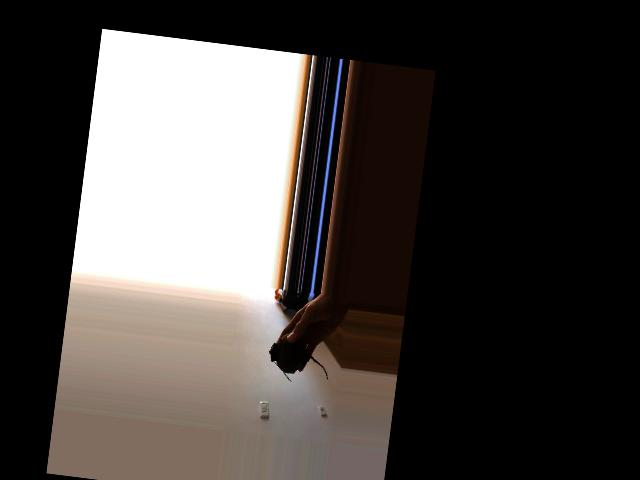beet: (265, 331, 333, 386)
